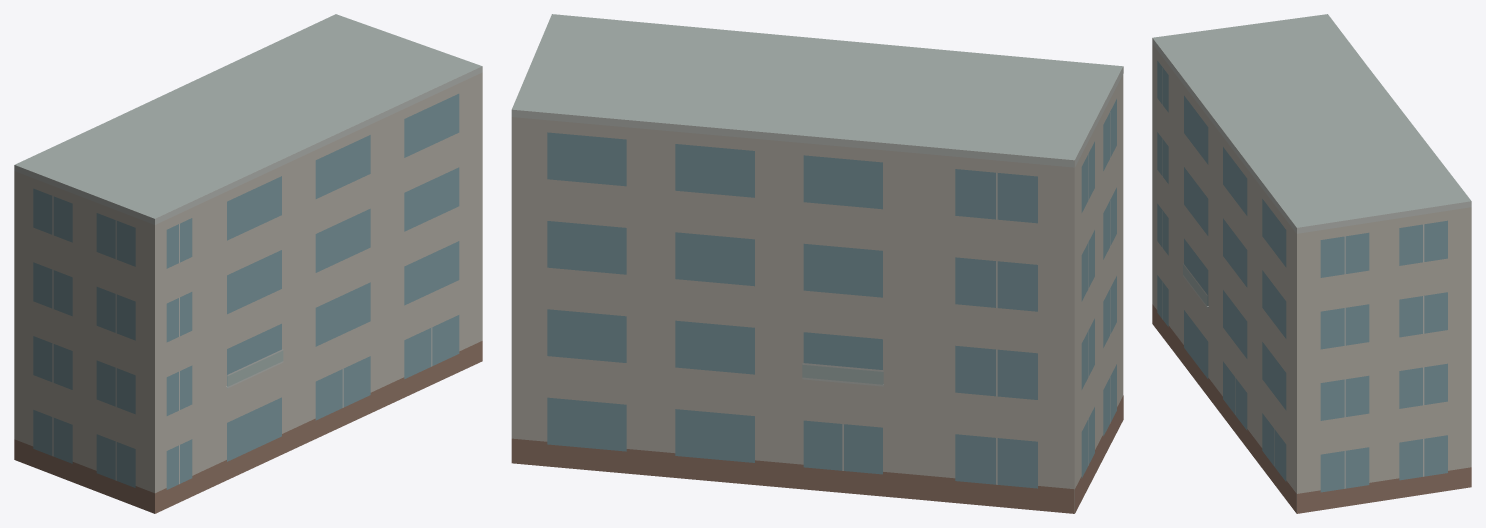
Rendered from survey-upis-32612948.glb.
3 renders of one model, left to right at view 1: azimuth 30°, elevation 25°; view 2: azimuth 150°, elevation 25°; view 3: azimuth 270°, elevation 25°, orthographic. The views are drawn at different scales.
Visible parts, largest first — view 1: survey-upis-32612948.tmp; view 2: survey-upis-32612948.tmp; view 3: survey-upis-32612948.tmp.
Boxes of the visible parts, x1,y1,x2,y2 form: survey-upis-32612948.tmp: [14, 14, 482, 513]; survey-upis-32612948.tmp: [511, 14, 1123, 513]; survey-upis-32612948.tmp: [1152, 14, 1471, 513].
Bounding box in the file's own units: 18.78 × 11.7 × 11.85.
